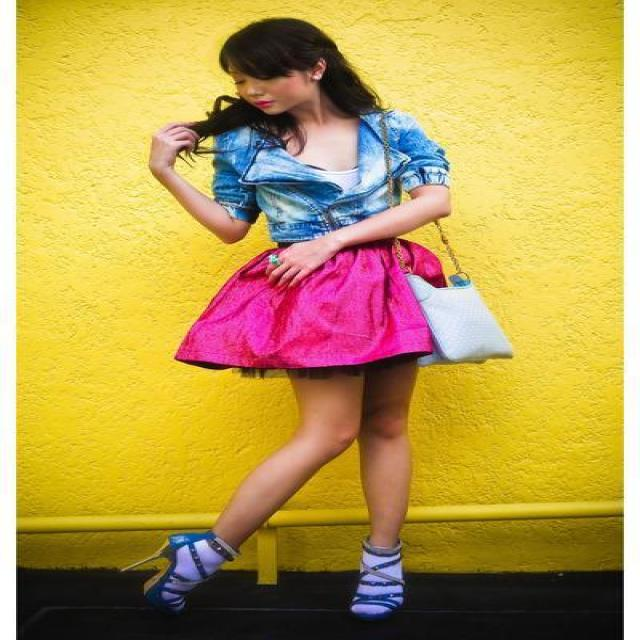bag: (406, 275, 511, 364)
shirt: (213, 100, 448, 246)
shoe: (144, 531, 403, 616)
skirt: (174, 230, 440, 372)
